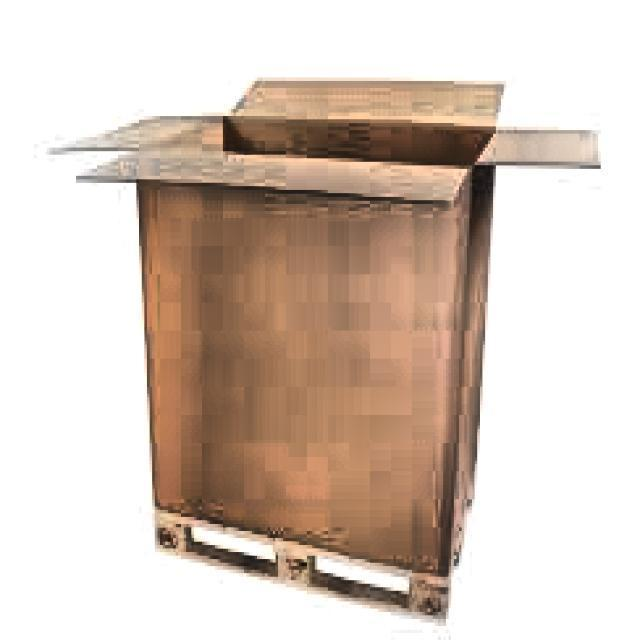cardboard: (47, 74, 598, 619)
